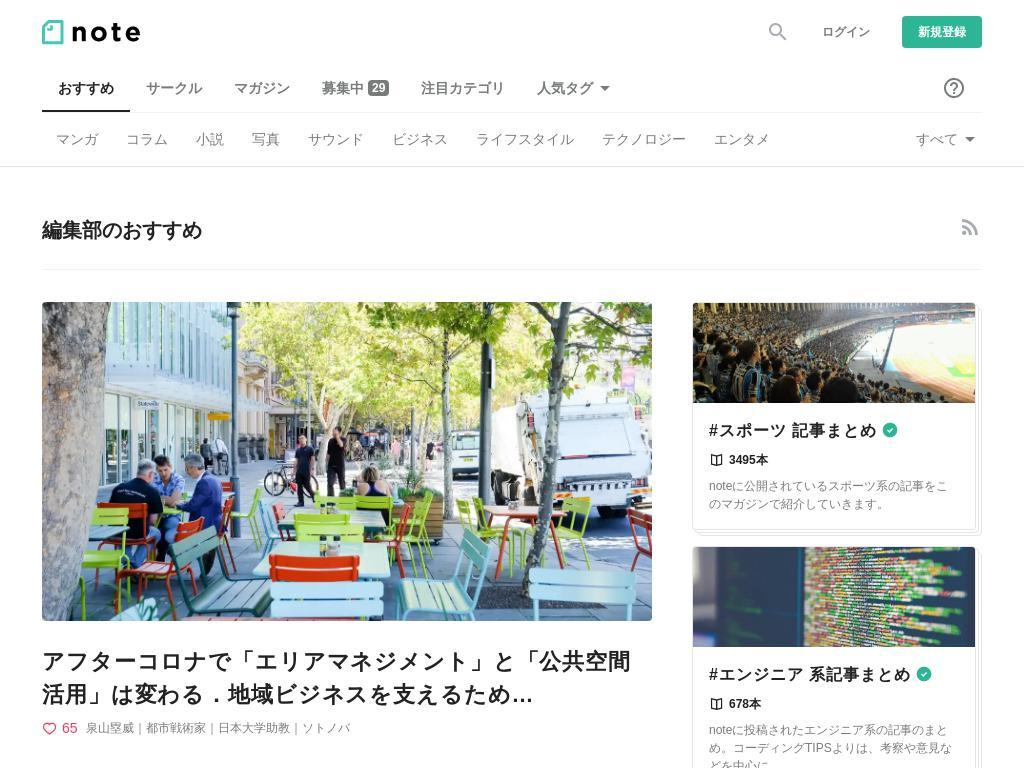button: (462, 113, 588, 166), (588, 113, 700, 166), (405, 64, 522, 112), (521, 64, 634, 112), (306, 64, 406, 112), (294, 113, 378, 166), (378, 113, 462, 166), (700, 113, 784, 166), (900, 113, 982, 166), (42, 64, 130, 112), (130, 64, 218, 112), (218, 64, 306, 112), (42, 113, 112, 166), (112, 113, 182, 166), (182, 113, 238, 166), (238, 113, 294, 166), (902, 16, 982, 48), (42, 19, 140, 45)
heading: (42, 649, 631, 708), (42, 215, 888, 245), (42, 19, 140, 45)
image: (42, 302, 652, 622), (693, 303, 975, 404), (693, 547, 975, 648)
text: (709, 721, 959, 768), (709, 477, 959, 514), (405, 64, 522, 112), (85, 719, 350, 738), (42, 64, 130, 112), (130, 64, 218, 112), (218, 64, 306, 112), (709, 666, 916, 684), (709, 422, 882, 440), (537, 81, 594, 95), (729, 451, 768, 470), (916, 131, 958, 147), (729, 695, 762, 714), (322, 81, 364, 95), (822, 26, 870, 38), (918, 26, 966, 38), (368, 80, 390, 96), (62, 721, 78, 736)
